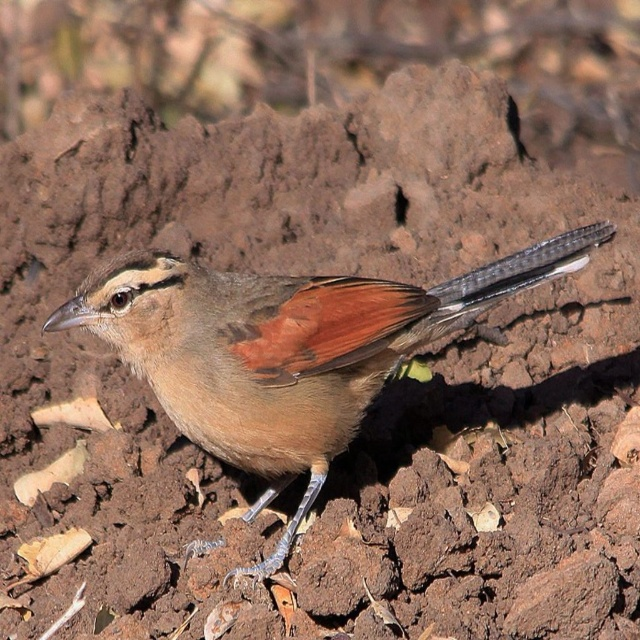Sparrow: (42, 228, 619, 592)
